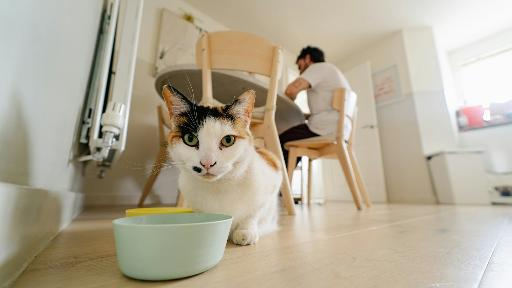cat_eating: (113, 85, 282, 280)
